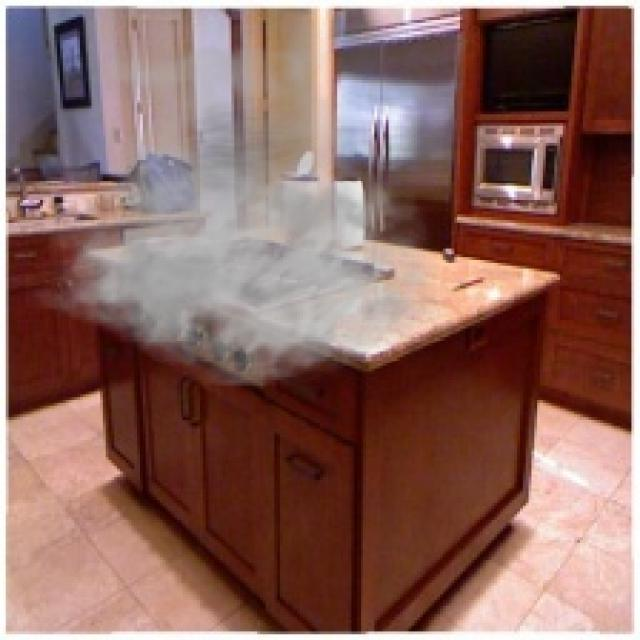smoke: (26, 11, 451, 388)
